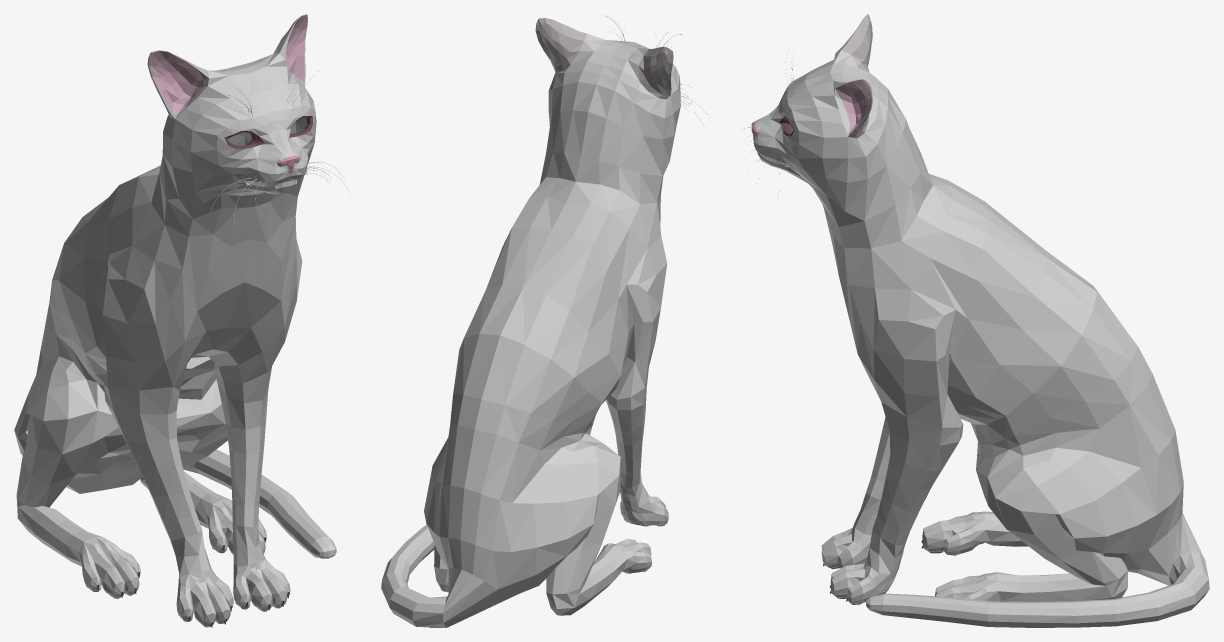
The model's file is Pet_sit_01.glb.
3 views of the same model, side by side, from view 1: azimuth 30°, elevation 25°; view 2: azimuth 150°, elevation 25°; view 3: azimuth 270°, elevation 25° (orthographic). The views are drawn at different scales.
Parts seen in each view (by area): view 1: Pet_sit_01; view 2: Pet_sit_01; view 3: Pet_sit_01.
Boxes of the visible parts, x1,y1,x2,y2 form: Pet_sit_01: [14, 14, 351, 627]; Pet_sit_01: [381, 16, 710, 627]; Pet_sit_01: [743, 14, 1209, 627].
Bounding box in the file's own units: 0.1879 × 0.4445 × 0.3539.
Materials: 1 (1 with a texture image).
